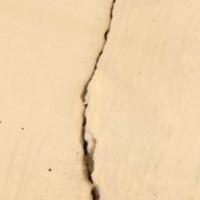crack: (63, 1, 132, 199)
